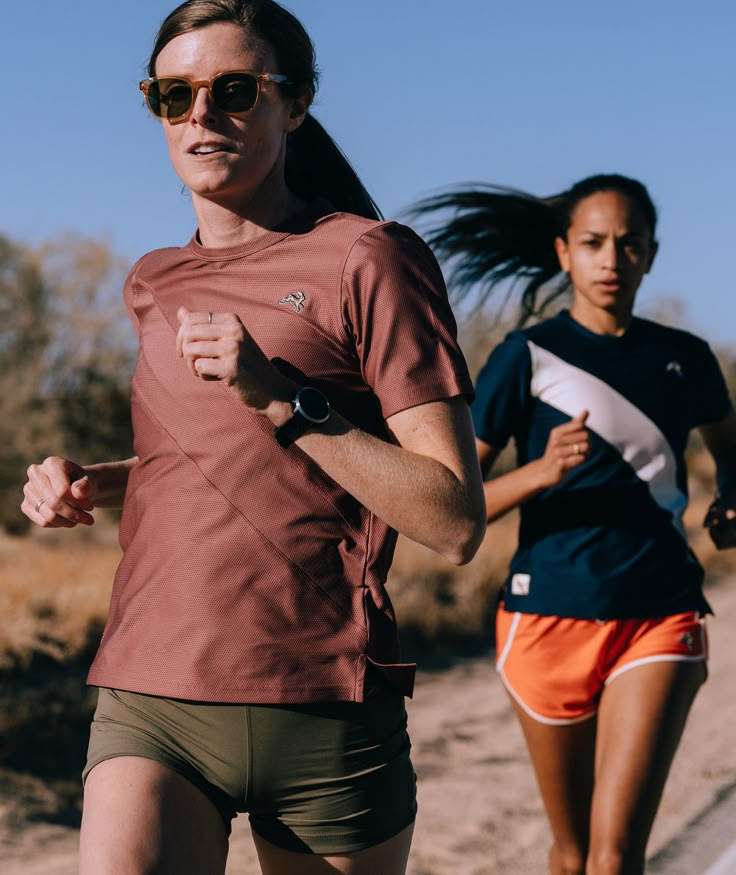egg: (73, 87, 661, 787)
